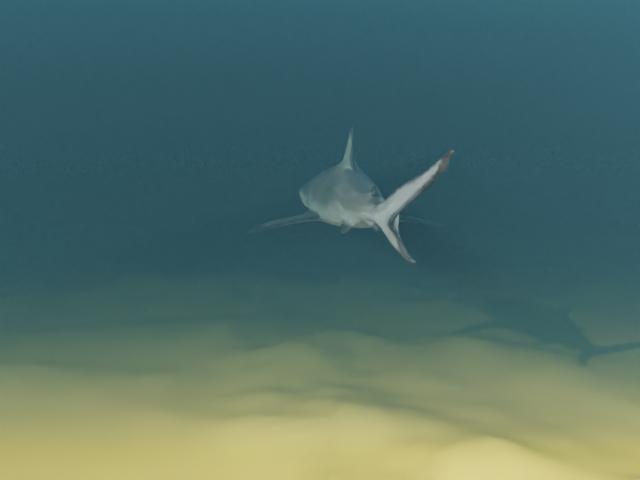Carribean Shark.001: (247, 127, 454, 263)
